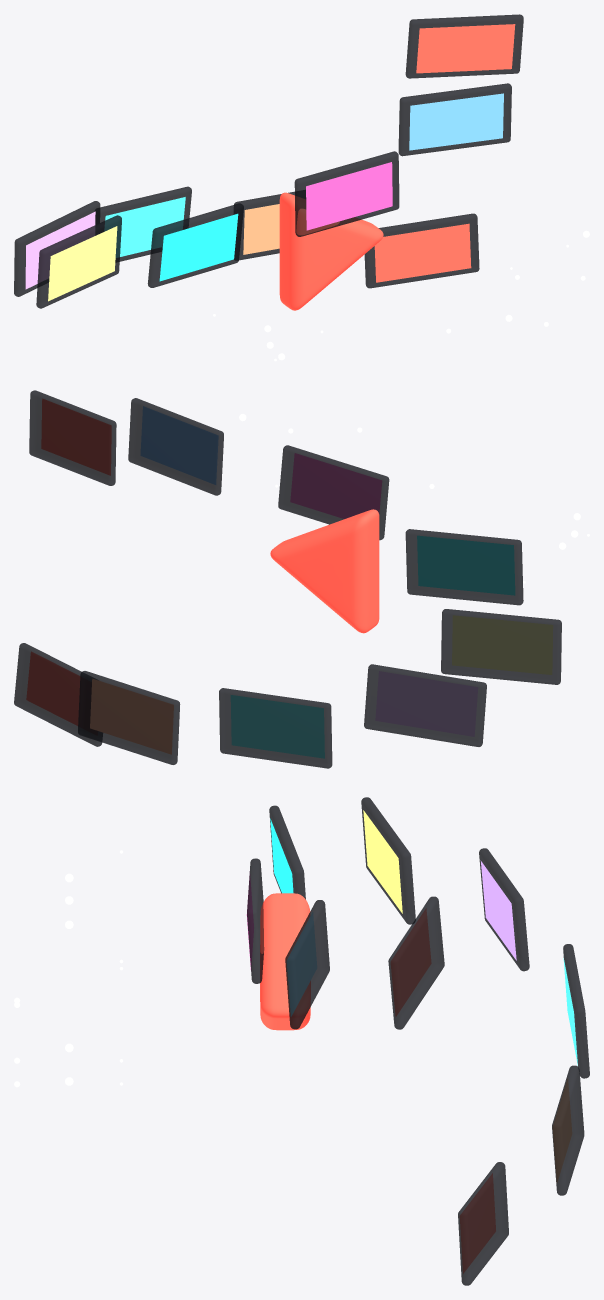
Rendered from hero-reel.glb.
3 views of the same model, one above another, from view 1: azimuth 30°, elevation 25°; view 2: azimuth 150°, elevation 25°; view 3: azimuth 270°, elevation 25° (orthographic). The views are drawn at different scales.
Visible parts, largest first — view 1: core, tile_08_screen, tile_00_screen, tile_07_screen, tile_06_screen, tile_05_screen, tile_04_screen, tile_02_screen, tile_08, tile_07, tile_06, tile_00 (+7 smaller); view 2: core, tile_04, tile_03, tile_05, tile_02, tile_01, tile_06, tile_07, tile_08, tile_00, tile_04_screen, tile_03_screen (+7 smaller); view 3: core, tile_08, tile_00, tile_07, tile_01, tile_08_screen, tile_04, tile_00_screen, tile_03, tile_04_screen, tile_06, tile_07_screen (+5 smaller).
Boxes of the visible parts, x1,y1,x2,y2 form: core: [279, 192, 383, 310]; tile_08_screen: [416, 24, 515, 73]; tile_00_screen: [374, 223, 471, 282]; tile_07_screen: [409, 93, 503, 150]; tile_06_screen: [306, 162, 392, 230]; tile_05_screen: [159, 213, 238, 281]; tile_04_screen: [48, 226, 117, 301]; tile_02_screen: [105, 197, 185, 257]; tile_08: [405, 14, 523, 78]; tile_07: [398, 83, 511, 156]; tile_06: [294, 151, 399, 236]; tile_00: [364, 213, 479, 288]; core: [270, 509, 379, 633]; tile_04: [441, 609, 561, 684]; tile_03: [364, 664, 486, 746]; tile_05: [405, 529, 523, 605]; tile_02: [219, 688, 332, 768]; tile_01: [78, 671, 180, 764]; tile_06: [278, 445, 389, 540]; tile_07: [128, 398, 223, 495]; tile_08: [29, 390, 116, 485]; tile_00: [14, 643, 102, 746]; tile_04_screen: [452, 616, 552, 674]; tile_03_screen: [376, 671, 477, 736]; core: [260, 893, 310, 1030]; tile_08: [388, 896, 444, 1029]; tile_00: [458, 1162, 508, 1285]; tile_07: [285, 900, 329, 1029]; tile_01: [552, 1065, 584, 1195]; tile_08_screen: [391, 909, 430, 1015]; tile_04: [361, 797, 415, 924]; tile_00_screen: [460, 1174, 495, 1272]; tile_03: [479, 848, 529, 971]; tile_04_screen: [363, 810, 402, 913]; tile_06: [247, 858, 264, 983]; tile_07_screen: [287, 913, 316, 1015].
Bounding box in the file's own units: 4.7 × 2.59 × 3.86.
